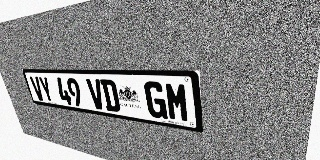4: (54, 77, 73, 105)
9: (65, 78, 84, 107)
D: (100, 79, 121, 113)
G: (143, 81, 168, 120)
M: (164, 82, 190, 123)
V: (86, 79, 106, 110), (29, 76, 45, 101)
Y: (38, 77, 55, 103)
